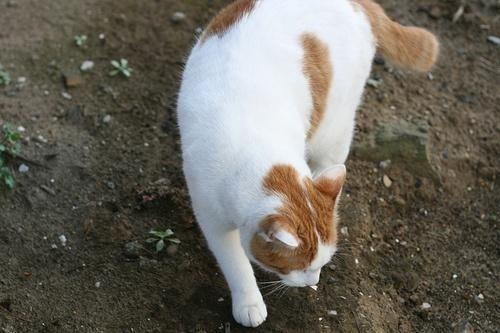cat: (177, 1, 440, 329)
